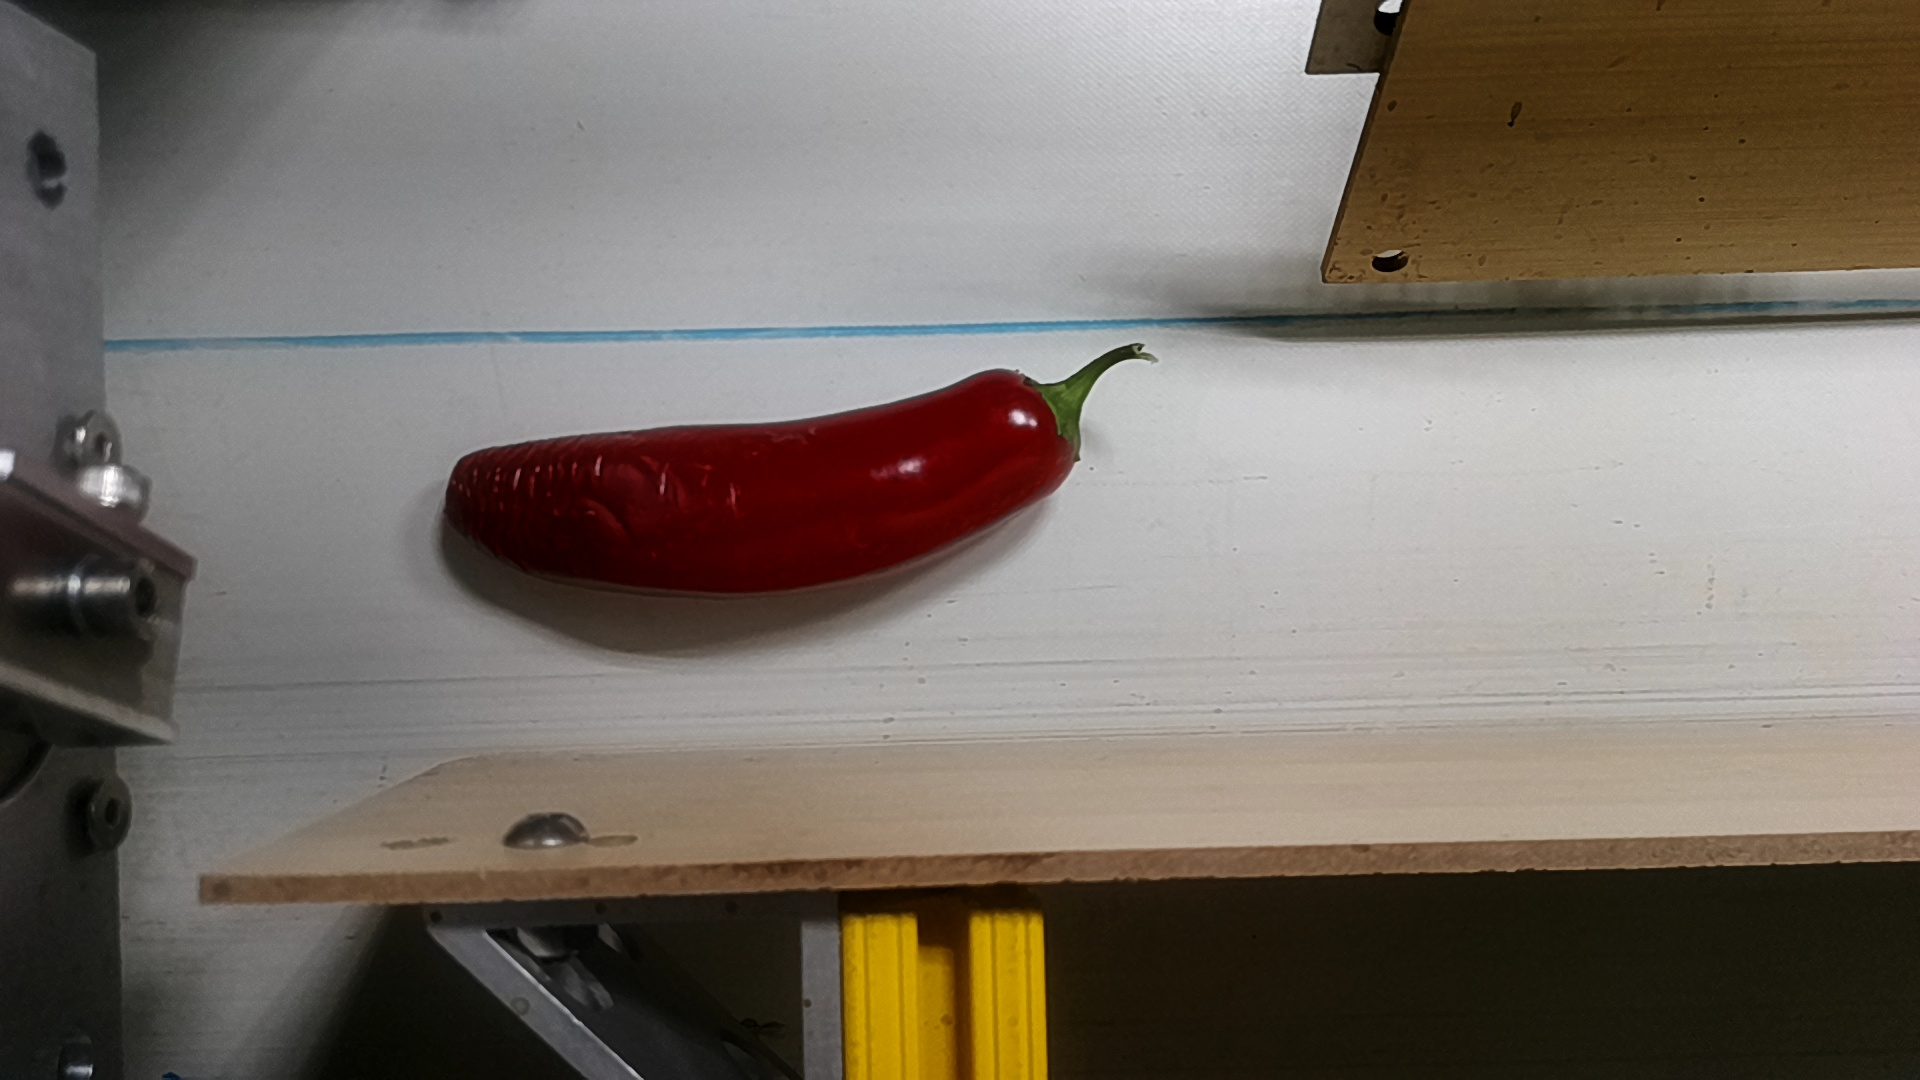Cut Point: (989, 357, 1098, 492)
